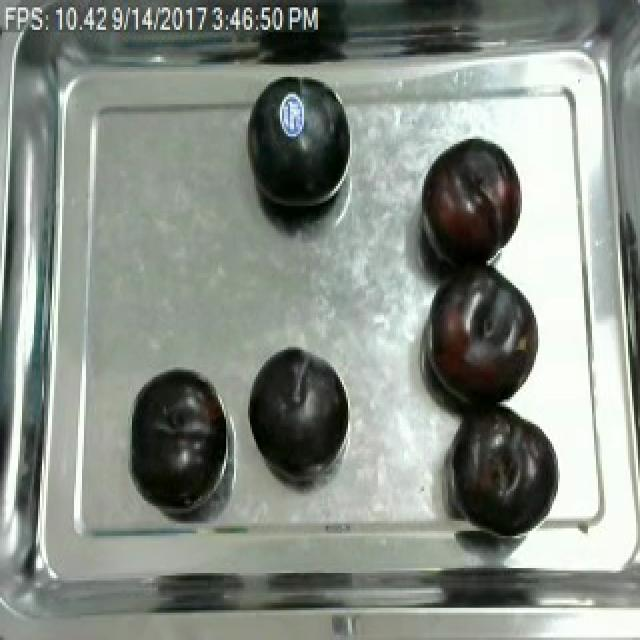Fruit: (422, 253, 544, 417), (446, 392, 562, 541), (240, 74, 356, 221), (122, 362, 234, 506), (418, 134, 526, 265), (244, 342, 350, 474)
